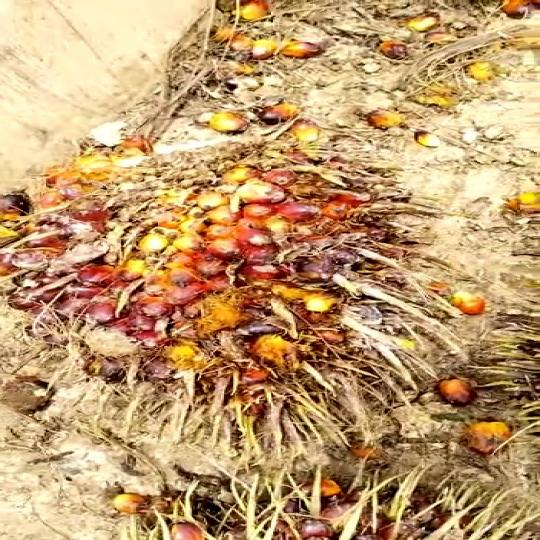masak: (1, 131, 442, 417)
